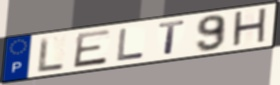9: (193, 13, 228, 53)
E: (71, 28, 113, 70)
H: (231, 6, 269, 49)
L: (37, 36, 65, 75), (116, 27, 147, 62)
T: (157, 19, 187, 57)
